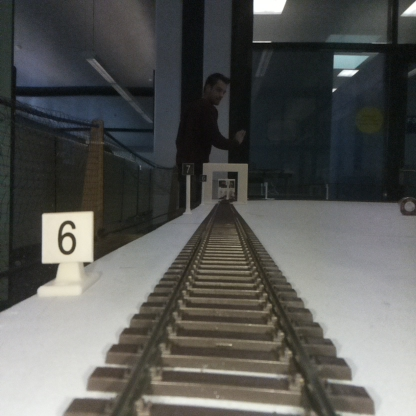black-info-7: (182, 163, 194, 212)
white-stop-6: (41, 211, 93, 293)
